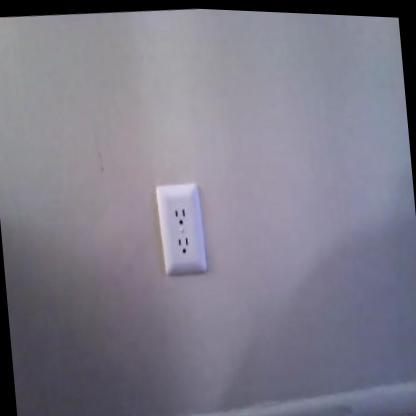OUTLET: (156, 181, 206, 275)
